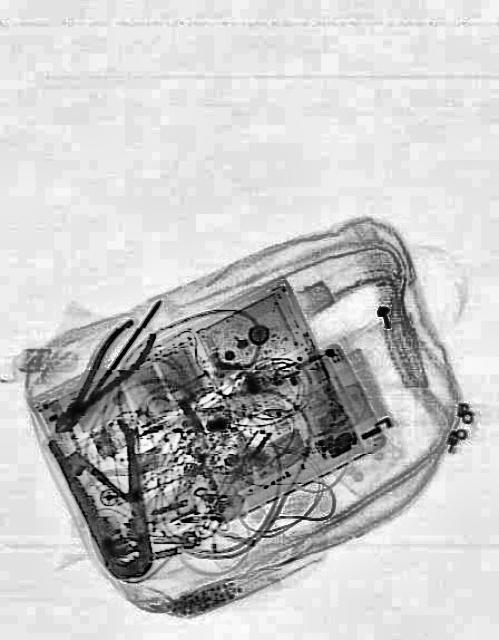Pliers: (46, 407, 170, 595), (41, 306, 161, 448)
